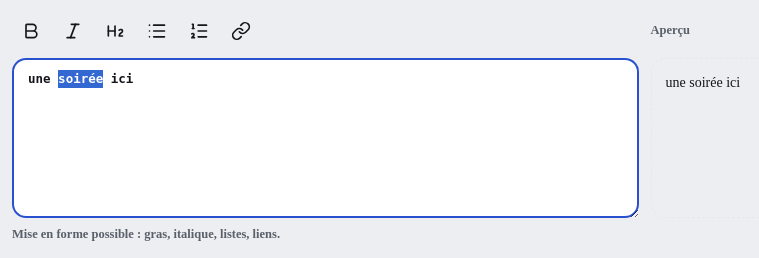
Test: the bar of buttons › puts bold marks around the selection, keeps it selected, and gives the focus back to the field
Click the button named "Gras" at (31, 31), box top-left (12, 12), bottom-right (50, 50)
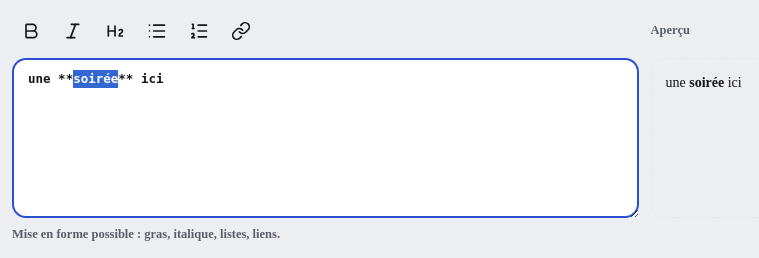
expect the text box holds "une **soirée** ici": met, box top-left (12, 58), bottom-right (638, 218)
Click the button named "Gras" at (31, 31), box top-left (12, 12), bottom-right (50, 50)
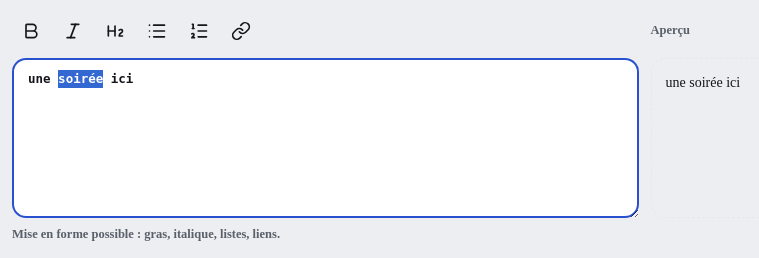
expect the text box holds "une soirée ici": met, box top-left (12, 58), bottom-right (638, 218)
